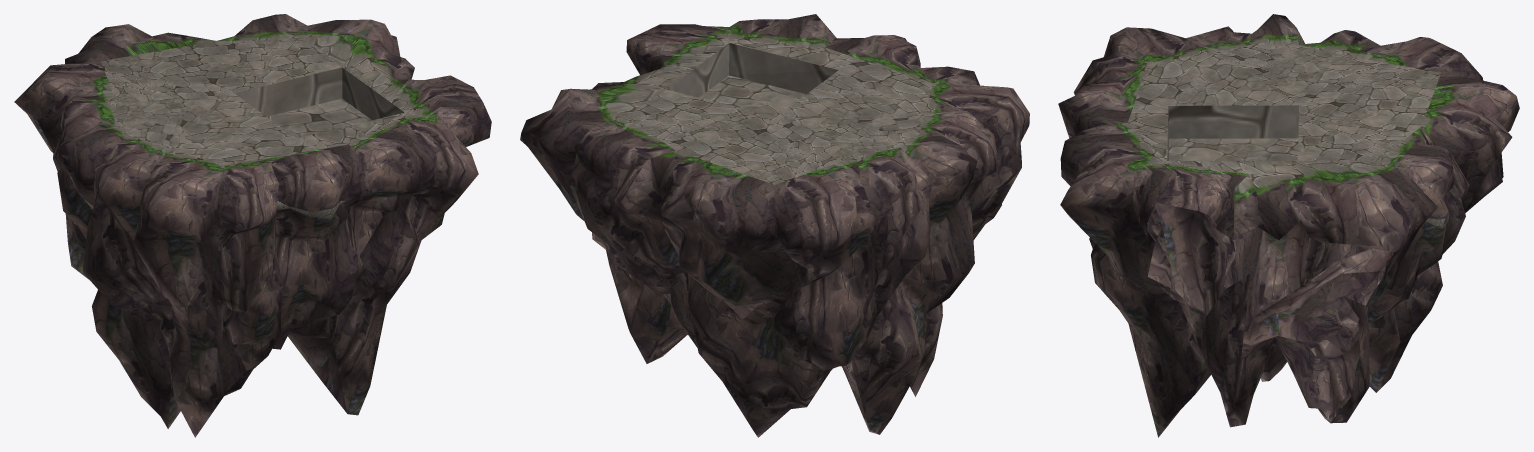
Rendered from Stage_ZhuCheng_ShanTi01.FBX.
3 views of the same model, side by side, from view 1: azimuth 30°, elevation 25°; view 2: azimuth 150°, elevation 25°; view 3: azimuth 270°, elevation 25° (orthographic). The views are drawn at different scales.
Visible parts, largest first — view 1: Stage_ZhuCheng_ShanTi01; view 2: Stage_ZhuCheng_ShanTi01; view 3: Stage_ZhuCheng_ShanTi01.
Boxes of the visible parts, bbox=[...] form: Stage_ZhuCheng_ShanTi01: bbox=[14, 14, 491, 437]; Stage_ZhuCheng_ShanTi01: bbox=[520, 14, 1029, 437]; Stage_ZhuCheng_ShanTi01: bbox=[1058, 14, 1519, 437].
Size of the model in its own units: 4108 by 3176 by 4024.
